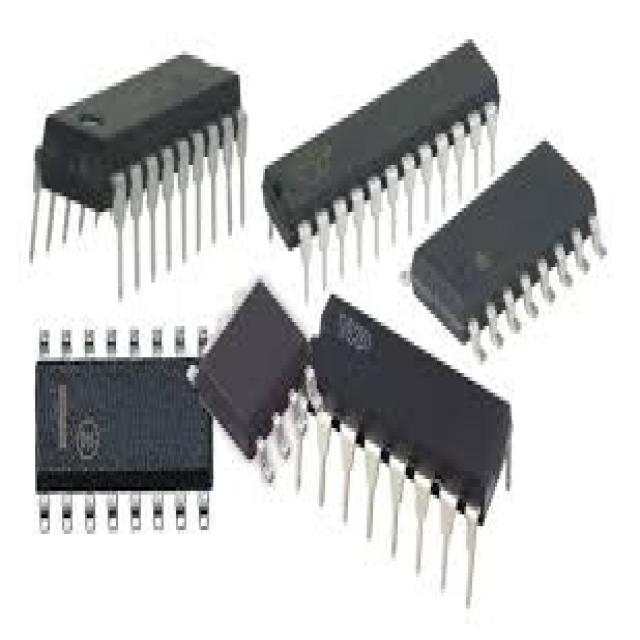IC: (304, 297, 511, 605), (264, 40, 496, 301), (31, 53, 243, 294), (411, 141, 601, 357), (33, 337, 214, 534), (191, 280, 312, 472)
